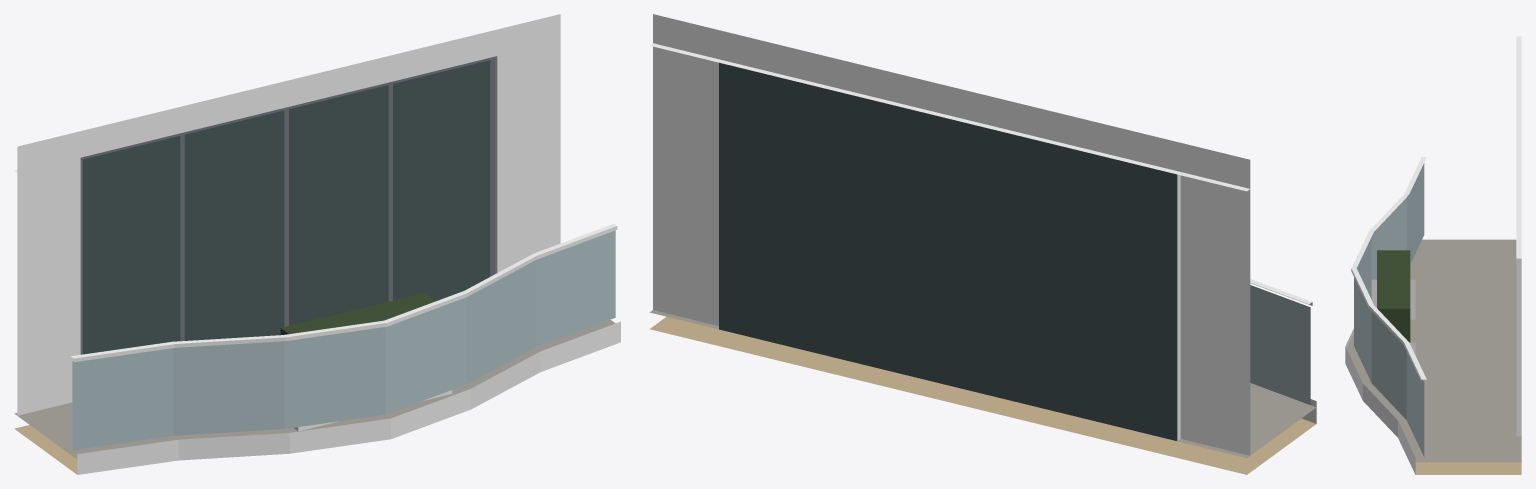
The model's file is mid-w1.fbx.
3 renders of one model, left to right at view 1: azimuth 30°, elevation 25°; view 2: azimuth 150°, elevation 25°; view 3: azimuth 270°, elevation 25°, orthographic. The views are drawn at different scales.
Visible parts, largest first — view 1: a2019/500/mid-w1; view 2: a2019/500/mid-w1; view 3: a2019/500/mid-w1.
Boxes of the visible parts, x1,y1,x2,y2 form: a2019/500/mid-w1: (14,14,620,474); a2019/500/mid-w1: (649,14,1316,474); a2019/500/mid-w1: (1345,36,1521,474).
Size of the model in its own units: 6 by 3 by 2.01.
